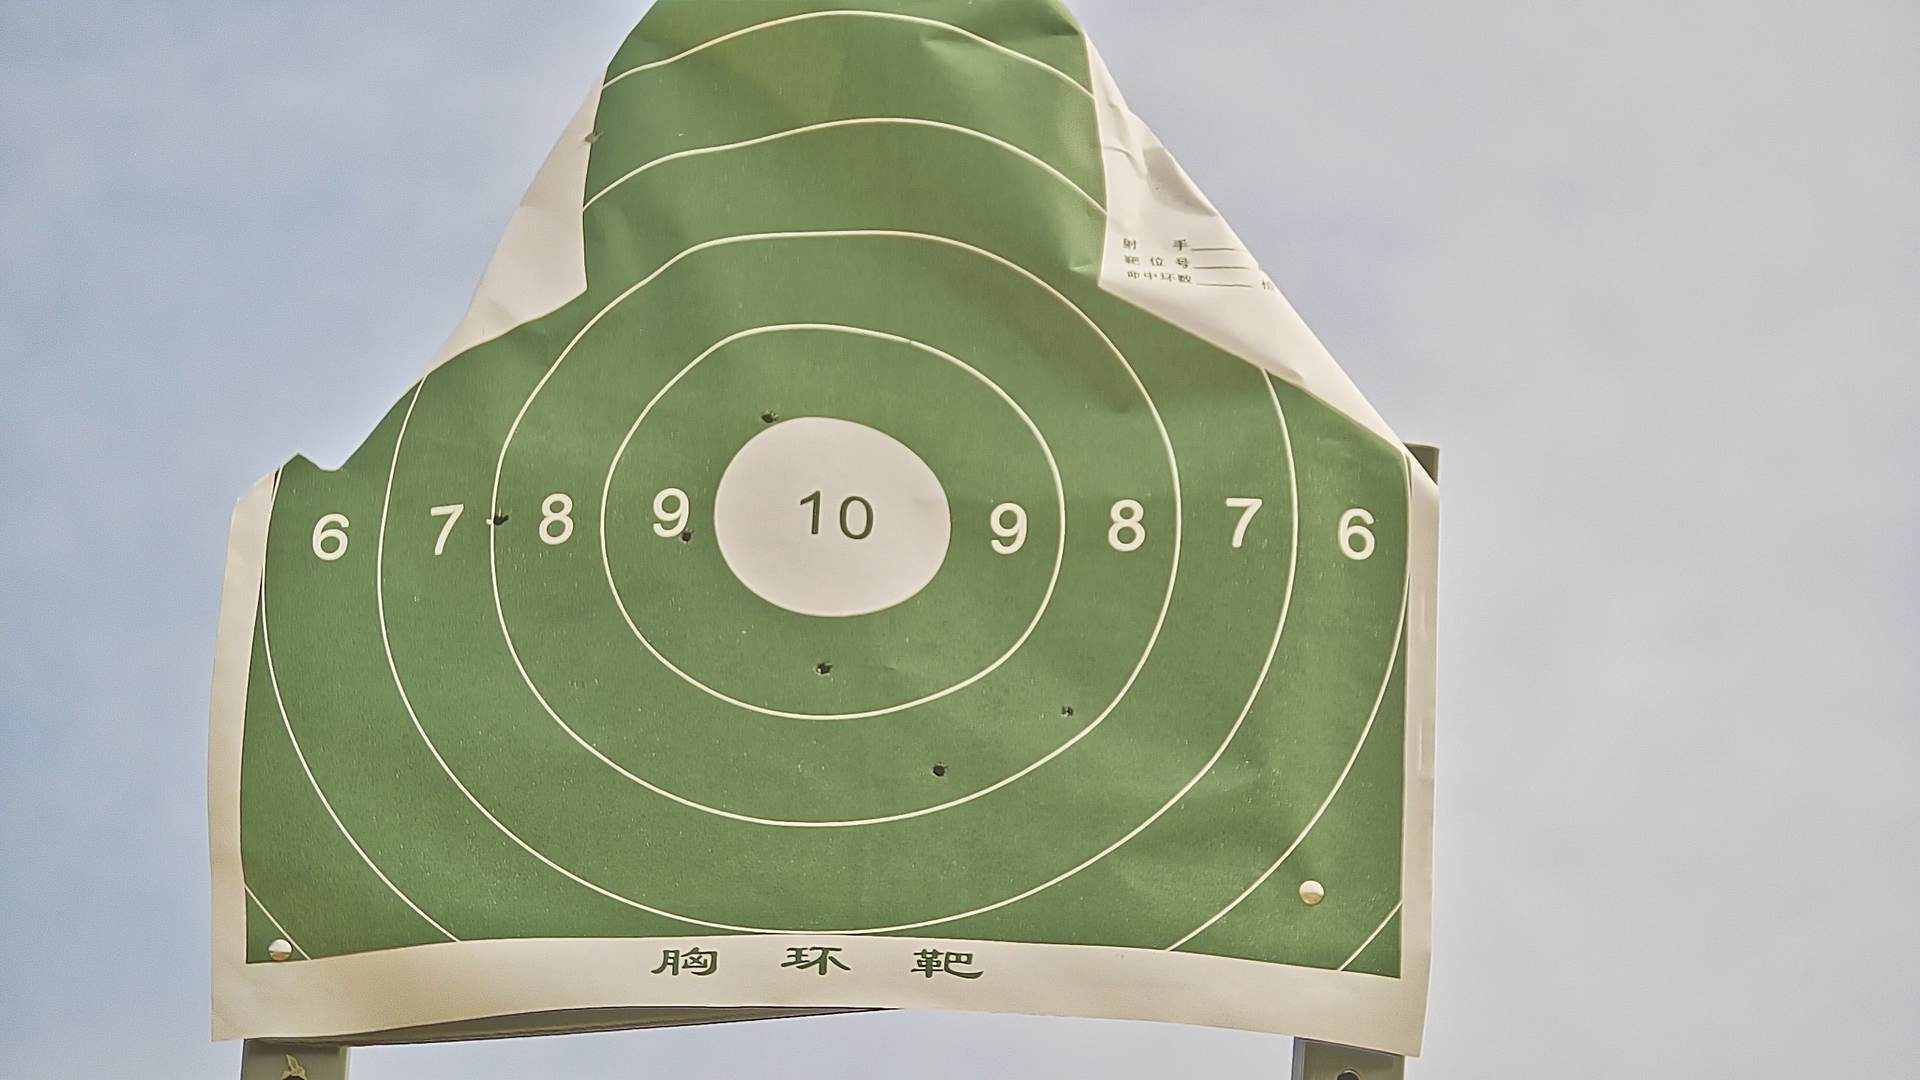hole: (932, 762, 947, 779), (489, 513, 508, 526), (760, 409, 774, 425), (818, 662, 833, 676), (1062, 705, 1076, 719), (680, 529, 692, 543), (585, 132, 601, 141)
kernel: (827, 516, 833, 520)
target: (248, 3, 1404, 984)
ten: (709, 415, 953, 620)
